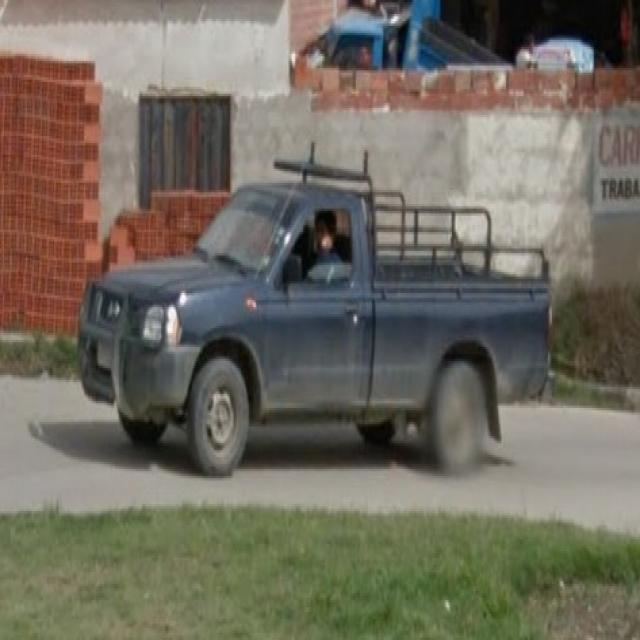cars: (80, 168, 551, 476)
